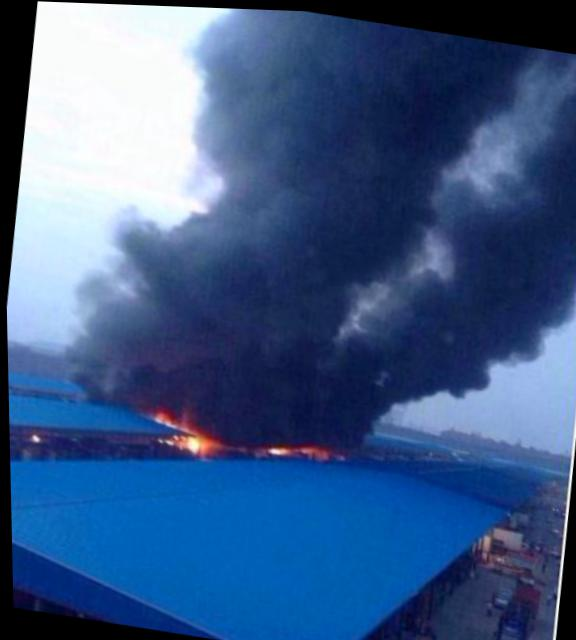fire: (160, 421, 220, 453), (265, 436, 327, 461)
